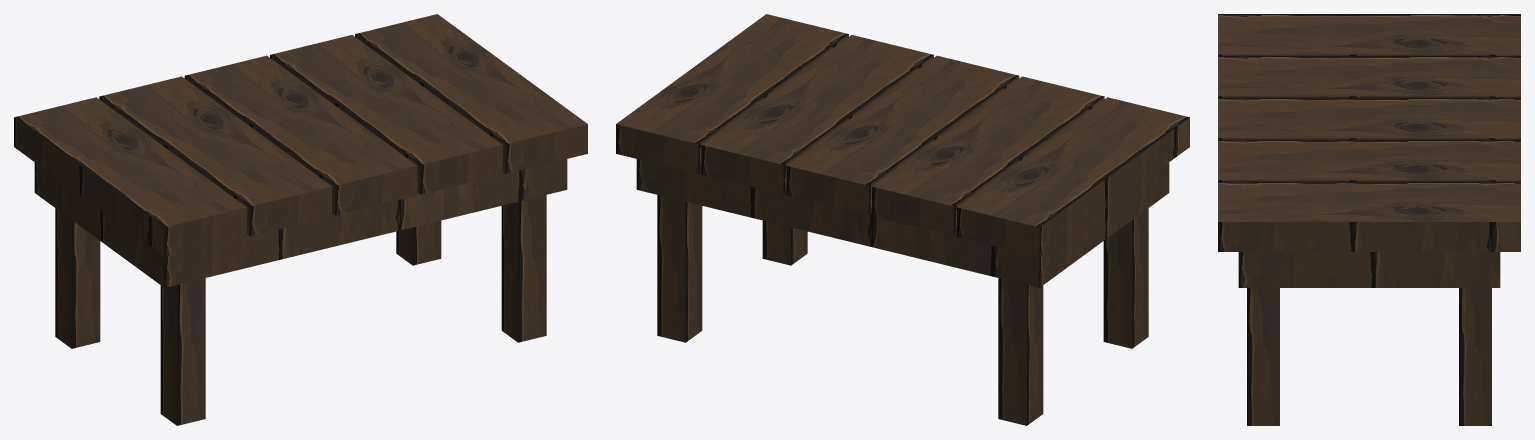
Rendered from table_rect_dark.glb.
3 renders of one model, left to right at view 1: azimuth 30°, elevation 25°; view 2: azimuth 150°, elevation 25°; view 3: azimuth 270°, elevation 25°, orthographic.
Parts seen in each view (by area): view 1: table_rect_dark; view 2: table_rect_dark; view 3: table_rect_dark.
Boxes of the visible parts, x1=… form: table_rect_dark: x1=14, y1=14, x2=587, y2=425; table_rect_dark: x1=616, y1=14, x2=1189, y2=425; table_rect_dark: x1=1218, y1=14, x2=1520, y2=425.
Size of the model in its own units: 1.79 by 0.87 by 1.1.
Materials: 1 (1 with a texture image).
